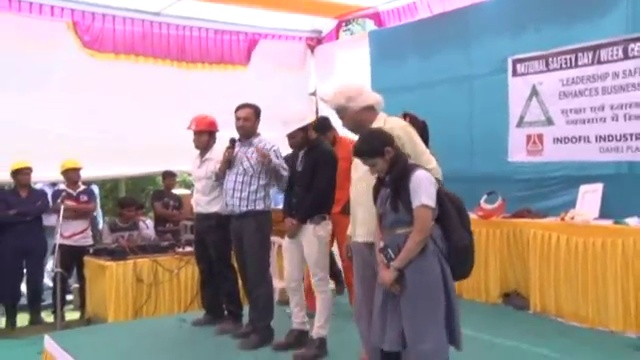helmet: (281, 109, 315, 138), (185, 112, 219, 134), (8, 160, 33, 179), (58, 159, 83, 176)
helmet_off: (348, 126, 407, 181), (331, 80, 384, 138), (227, 104, 264, 139), (308, 115, 339, 151), (116, 197, 140, 224), (160, 171, 178, 195)
helmet_on: (281, 108, 315, 153), (185, 113, 219, 153), (8, 161, 34, 189), (58, 159, 83, 188)
person: (332, 79, 442, 360), (348, 126, 475, 360), (214, 103, 291, 347), (272, 108, 339, 360), (182, 114, 243, 336), (1, 159, 53, 335), (309, 116, 355, 298), (51, 159, 97, 330), (102, 193, 153, 249), (151, 171, 188, 239)
